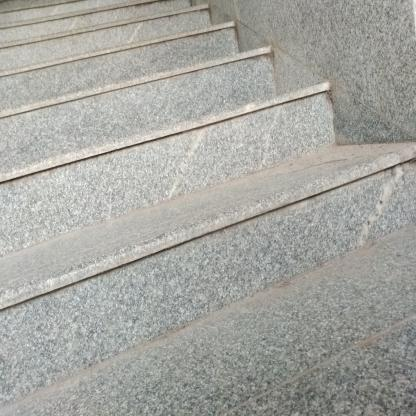stairs: (1, 49, 276, 348)
